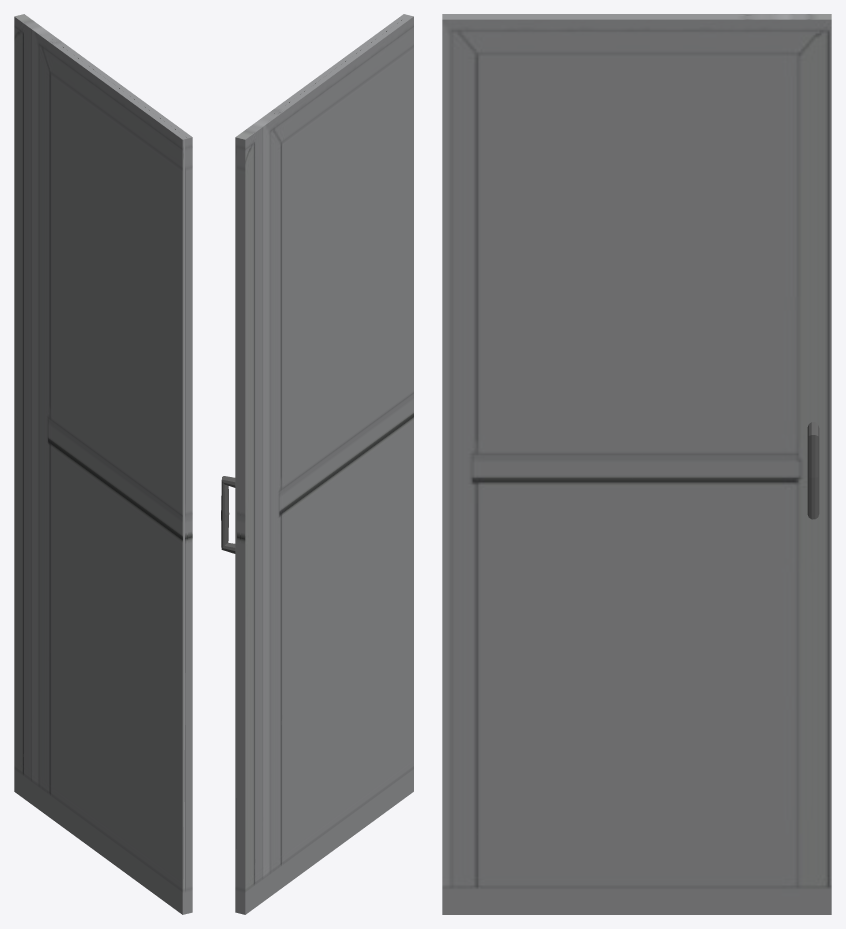
Rendered from staff door1.fbx.
3 renders of one model, left to right at view 1: azimuth 30°, elevation 25°; view 2: azimuth 150°, elevation 25°; view 3: azimuth 270°, elevation 25°, orthographic. The views are drawn at different scales.
Visible parts, largest first — view 1: Cube; view 2: Cube, Plane.001; view 3: Cube, Plane.001.
Part boxes in pixels (left/top/right/bottom): Cube: left=14, top=14, right=192, bottom=914; Cube: left=235, top=14, right=413, bottom=914; Plane.001: left=221, top=476, right=235, bottom=553; Cube: left=442, top=14, right=831, bottom=914; Plane.001: left=807, top=422, right=819, bottom=519.
Bounding box in the file's own units: 79.25 × 1868 × 736.
2 materials, 1 textured.
